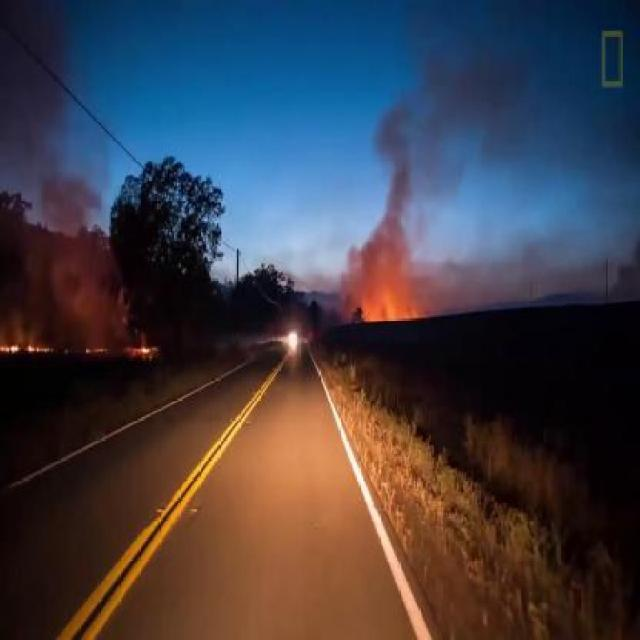Fire: (128, 342, 150, 356), (2, 341, 20, 354), (26, 344, 52, 353)
